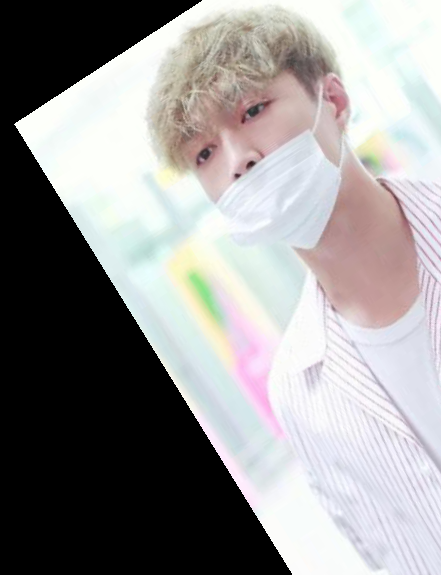mask_weared_incorrect: (138, 1, 388, 261)
